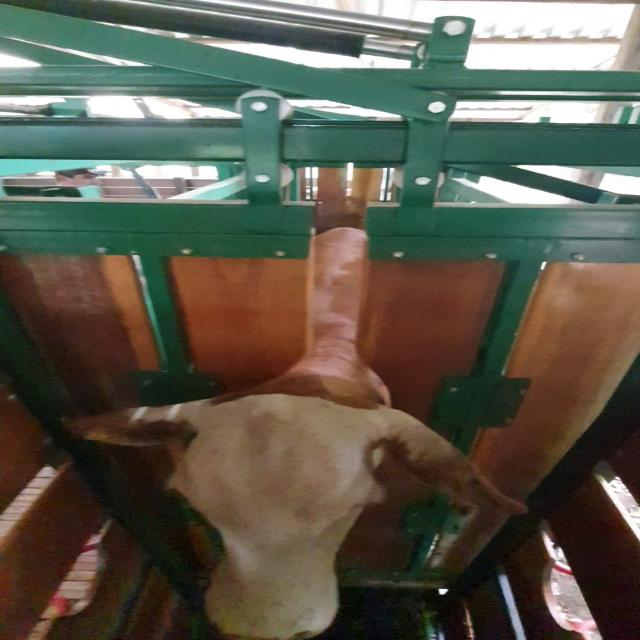cowFace: (178, 402, 375, 640)
